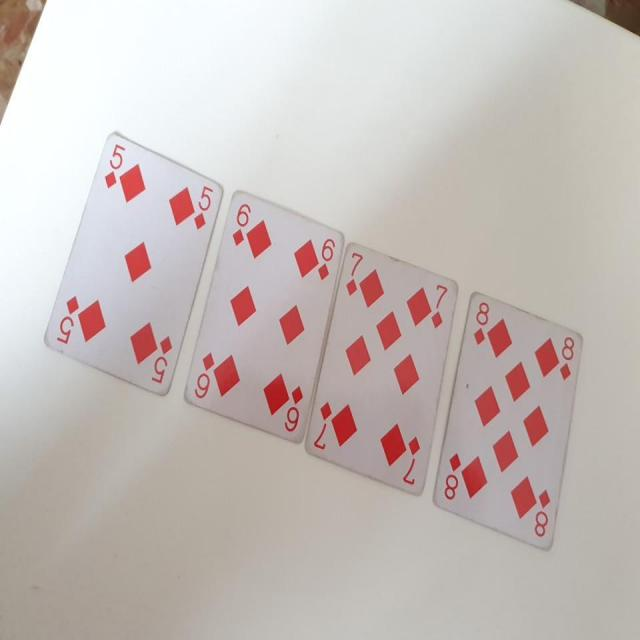5 Diamonds: (34, 129, 226, 404)
6 Diamonds: (181, 186, 344, 445)
7 Diamonds: (302, 240, 462, 500)
8 Diamonds: (432, 291, 586, 553)
